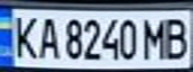0: (118, 16, 142, 61)
2: (81, 15, 103, 61)
4: (100, 15, 121, 61)
8: (60, 15, 84, 61)
A: (33, 14, 60, 61)
B: (160, 15, 190, 61)
K: (6, 11, 42, 60)
M: (139, 15, 172, 61)
